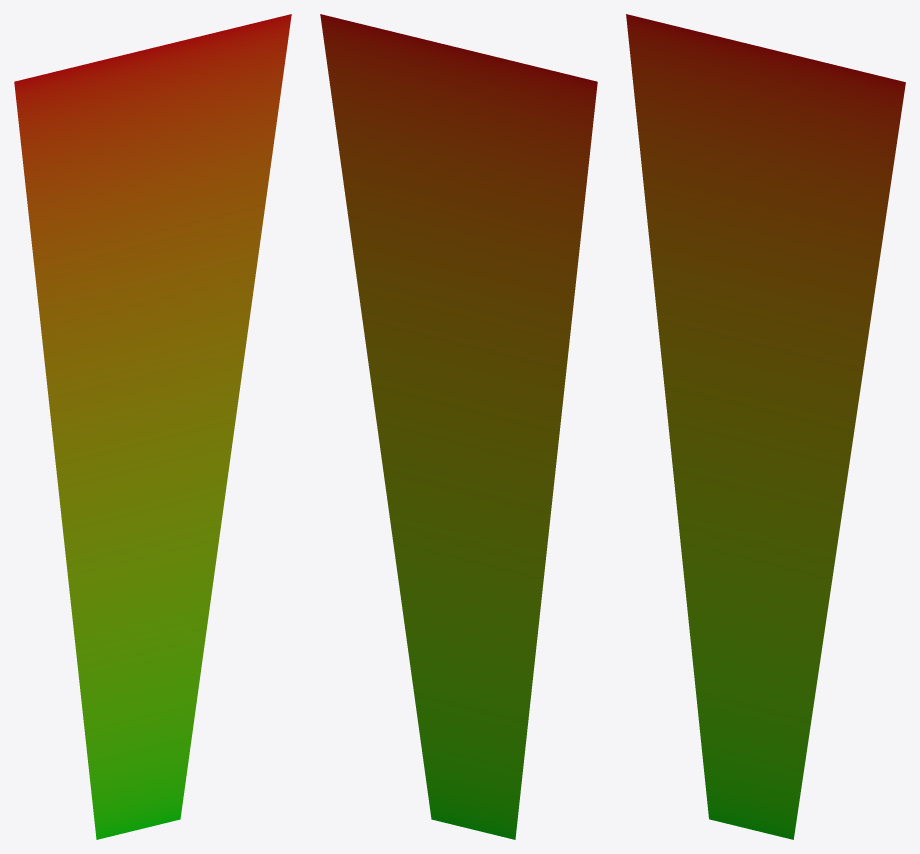
Rendered from Carnation Weed_LOD3_Var3_smdpecor.fbx.
3 views of the same model, side by side, from view 1: azimuth 30°, elevation 25°; view 2: azimuth 150°, elevation 25°; view 3: azimuth 330°, elevation 25° (orthographic).
Visible parts, largest first — view 1: _fc02_Var3_LOD3; view 2: _fc02_Var3_LOD3; view 3: _fc02_Var3_LOD3.
Boxes of the visible parts, bbox=[...] form: _fc02_Var3_LOD3: bbox=[14, 14, 291, 839]; _fc02_Var3_LOD3: bbox=[320, 14, 597, 839]; _fc02_Var3_LOD3: bbox=[626, 14, 905, 839].
Bounding box in the file's own units: 9.22 × 24.7 × 2.98e-07.
